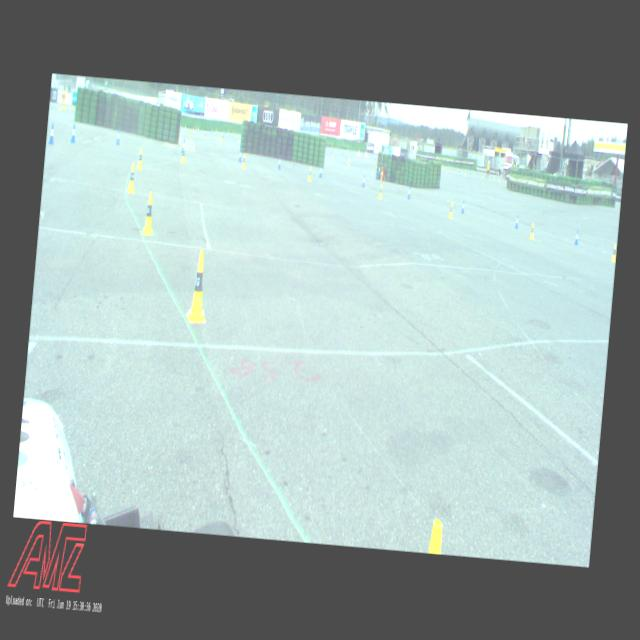blue_cone: (48, 122, 55, 146), (70, 124, 76, 143), (116, 128, 120, 146), (180, 138, 185, 152), (574, 230, 578, 246), (238, 148, 242, 162), (514, 214, 518, 228), (460, 200, 464, 213), (362, 174, 366, 187), (277, 156, 281, 169), (318, 165, 322, 178), (407, 186, 411, 198), (378, 167, 380, 174)
large_orange_cone: (356, 148, 358, 158), (358, 148, 360, 158)
yellow_cone: (186, 248, 212, 324), (142, 191, 156, 236), (126, 162, 136, 192), (136, 147, 144, 170), (610, 243, 616, 261), (529, 222, 535, 240), (180, 148, 186, 163), (448, 202, 453, 218), (378, 182, 382, 200), (308, 166, 312, 182), (242, 153, 246, 167), (202, 130, 205, 136), (380, 166, 382, 174), (238, 136, 240, 142), (220, 134, 222, 140), (61, 102, 62, 108), (220, 132, 220, 138)
